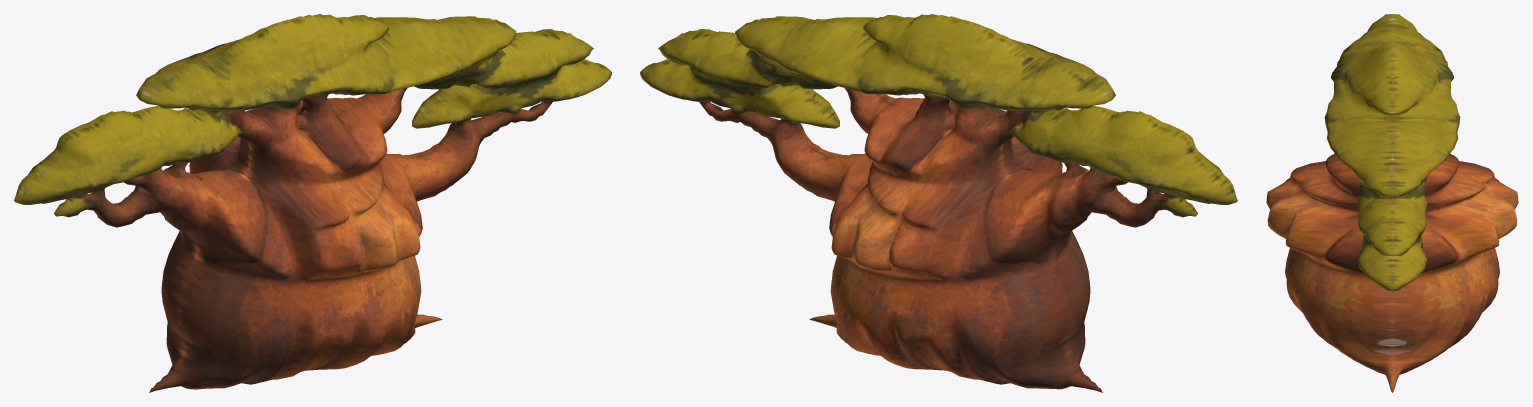
File: 25_trees_d_r01_c01.glb
The picture shows the model from 3 angles, left to right: view 1: azimuth 30°, elevation 25°; view 2: azimuth 150°, elevation 25°; view 3: azimuth 270°, elevation 25°; orthographic projection. The views are drawn at different scales.
Parts seen in each view (by area): view 1: 25_trees_d_r01_c01; view 2: 25_trees_d_r01_c01; view 3: 25_trees_d_r01_c01.
Part boxes in pixels (x1=…): 25_trees_d_r01_c01: x1=14, y1=14, x2=611, y2=392; 25_trees_d_r01_c01: x1=640, y1=14, x2=1237, y2=392; 25_trees_d_r01_c01: x1=1266, y1=14, x2=1518, y2=392.
Bounding box in the file's own units: 9 × 4.92 × 3.96.
Materials: 1 (1 with a texture image).
